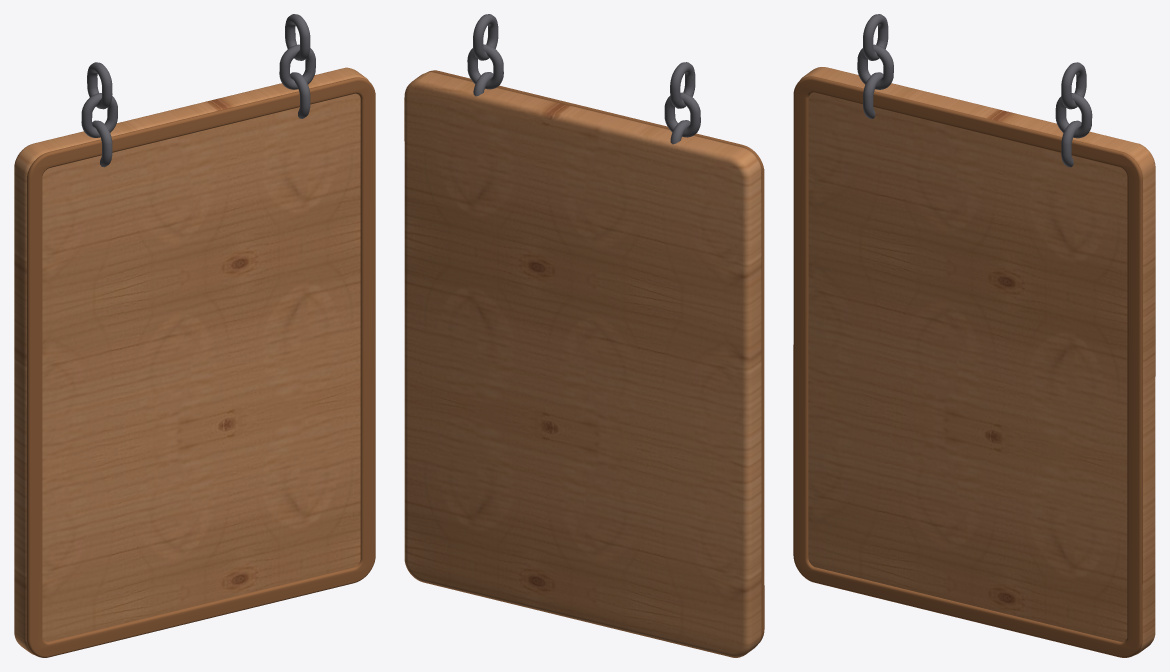
The model's file is dropdown_board.glb.
The picture shows the model from 3 angles, left to right: view 1: azimuth 30°, elevation 25°; view 2: azimuth 150°, elevation 25°; view 3: azimuth 330°, elevation 25°; orthographic projection.
Visible parts, largest first — view 1: dropdown_board, board_frame, chainR_link1, chainL_link1, chainL_link0, chainR_link0, chainL_link2; view 2: dropdown_board, board_frame, chainL_link1, chainR_link1, chainL_link0, chainR_link0; view 3: dropdown_board, board_frame, chainR_link1, chainL_link1, chainR_link0, chainL_link0, chainR_link2, chainL_link2.
Part boxes in pixels (bbox=[...]): dropdown_board: bbox=[14, 67, 368, 654]; board_frame: bbox=[26, 77, 375, 657]; chainR_link1: bbox=[279, 44, 315, 89]; chainL_link1: bbox=[81, 93, 117, 137]; chainL_link0: bbox=[87, 62, 112, 109]; chainR_link0: bbox=[285, 14, 310, 60]; chainL_link2: bbox=[92, 120, 112, 167]; dropdown_board: bbox=[404, 72, 761, 657]; board_frame: bbox=[427, 70, 764, 642]; chainL_link1: bbox=[664, 92, 700, 137]; chainR_link1: bbox=[467, 44, 503, 89]; chainL_link0: bbox=[670, 62, 695, 108]; chainR_link0: bbox=[473, 14, 498, 60]; dropdown_board: bbox=[800, 67, 1155, 655]; board_frame: bbox=[793, 76, 1142, 657]; chainR_link1: bbox=[1055, 93, 1092, 138]; chainL_link1: bbox=[857, 44, 893, 89]; chainR_link0: bbox=[1061, 62, 1086, 109]; chainL_link0: bbox=[863, 14, 888, 60]; chainR_link2: bbox=[1061, 120, 1081, 167]; chainL_link2: bbox=[863, 72, 883, 118].
Bounding box in the file's own units: 2.57 × 4.06 × 0.27.
Materials: 3 (1 with a texture image).
